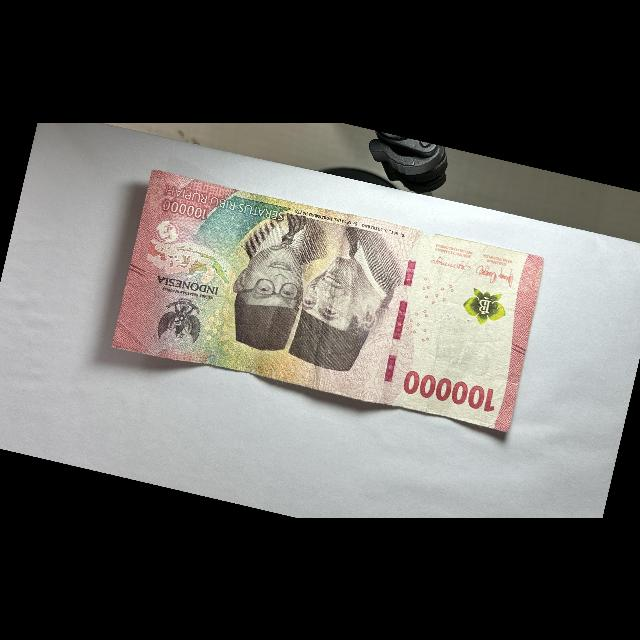Palsu-100k: (106, 165, 552, 440)
Tinta-Palsu-100k: (459, 285, 509, 328)
